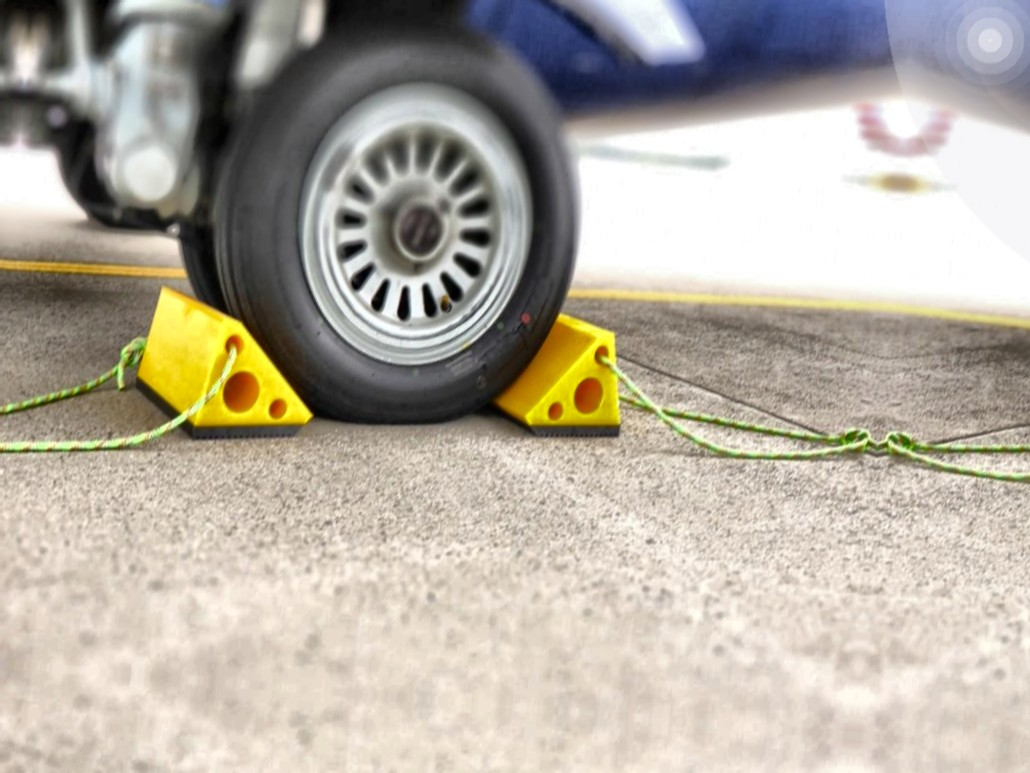chock: (132, 283, 325, 450), (484, 305, 632, 443)
wheel: (204, 10, 593, 439)
